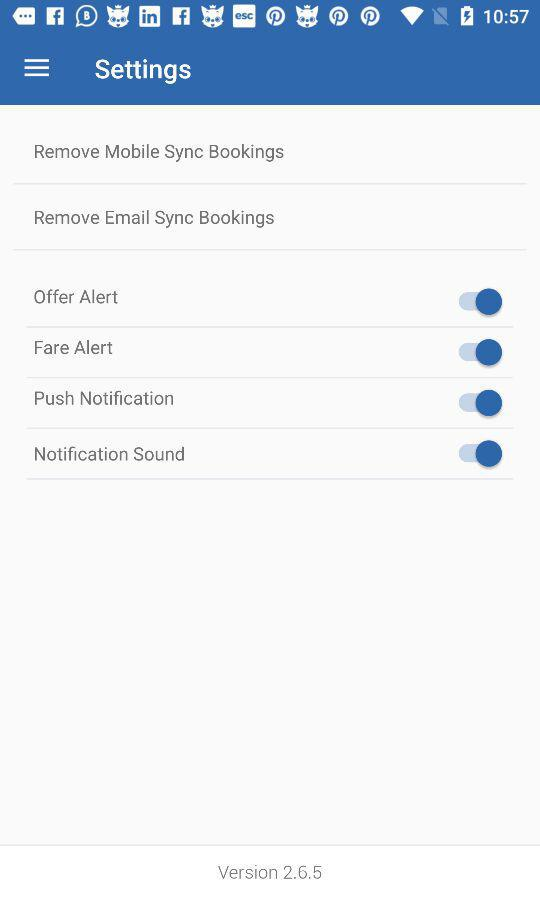Icon: (23, 58, 51, 79)
Switch: (458, 440, 503, 470), (458, 339, 503, 368), (459, 288, 503, 317), (458, 389, 503, 417)
Text: (35, 144, 285, 164), (35, 210, 275, 230), (96, 59, 193, 86), (35, 446, 186, 463), (34, 390, 175, 407), (217, 864, 322, 880), (34, 289, 119, 306), (35, 340, 114, 356)
UpperTaskBar: (1, 1, 540, 33)
